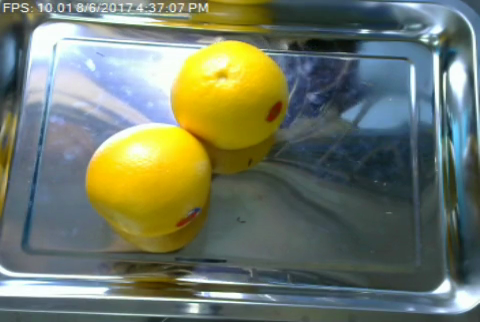Orange: (84, 120, 211, 237), (169, 41, 290, 149)
